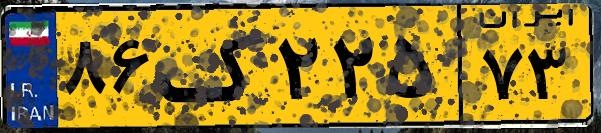2: (270, 28, 330, 110), (330, 28, 385, 110)
3: (525, 38, 570, 115)
5: (385, 28, 445, 110)
6: (110, 28, 158, 98)
7: (475, 38, 525, 113)
8: (57, 26, 110, 100)
ک: (158, 12, 270, 120)
